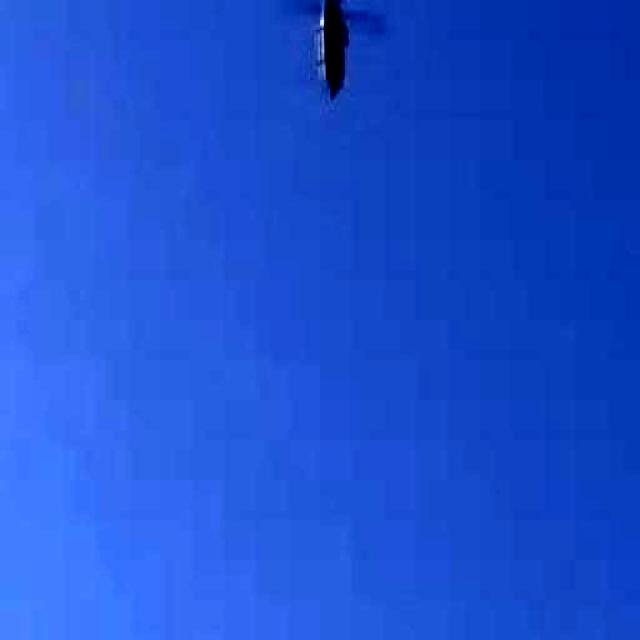drone: (270, 0, 400, 112)
